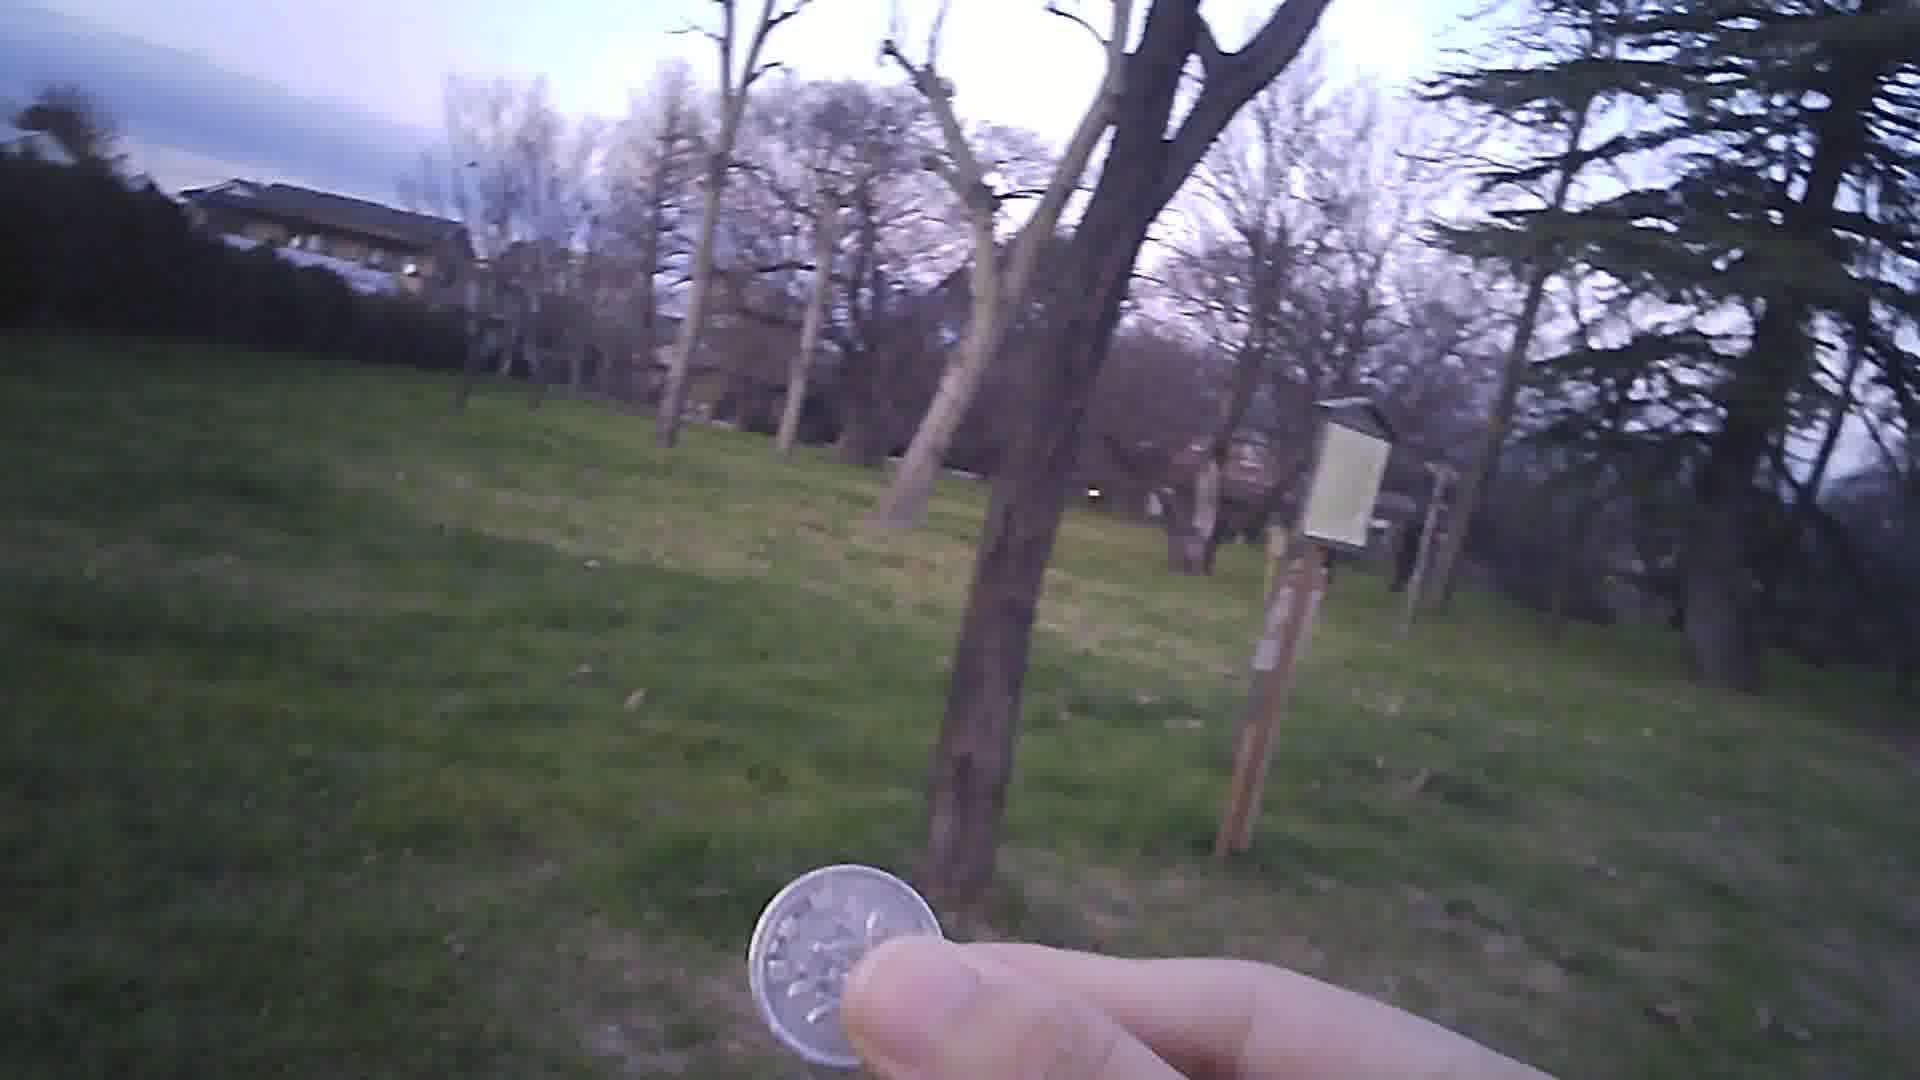1 Yen: (742, 853, 959, 1072)
